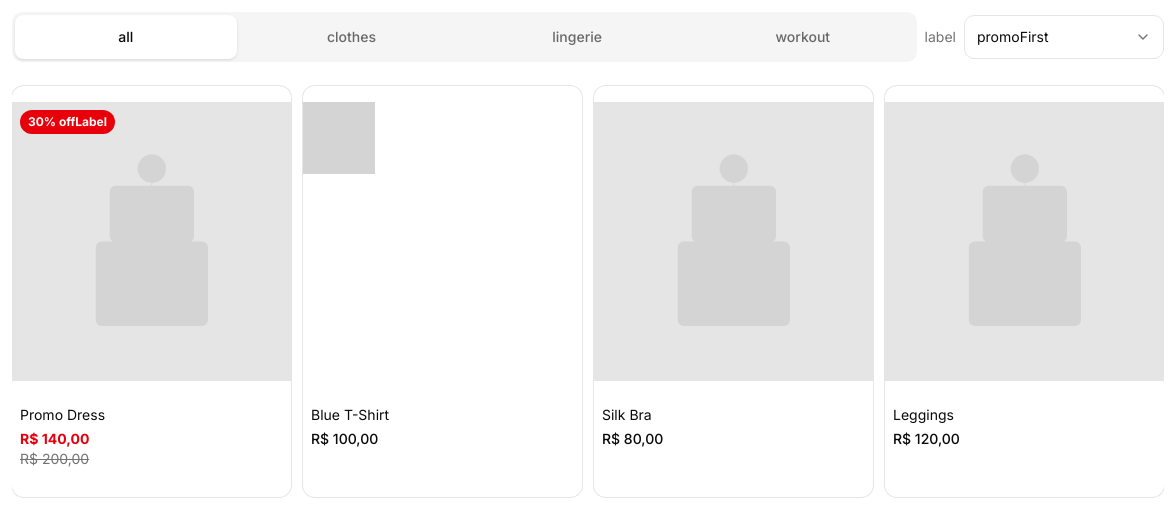
Scenario: CategoryFilter › shows only WORKOUT products after clicking the WORKOUT tab
Click the tab "workout" at (803, 37), box [692,15,914,59]
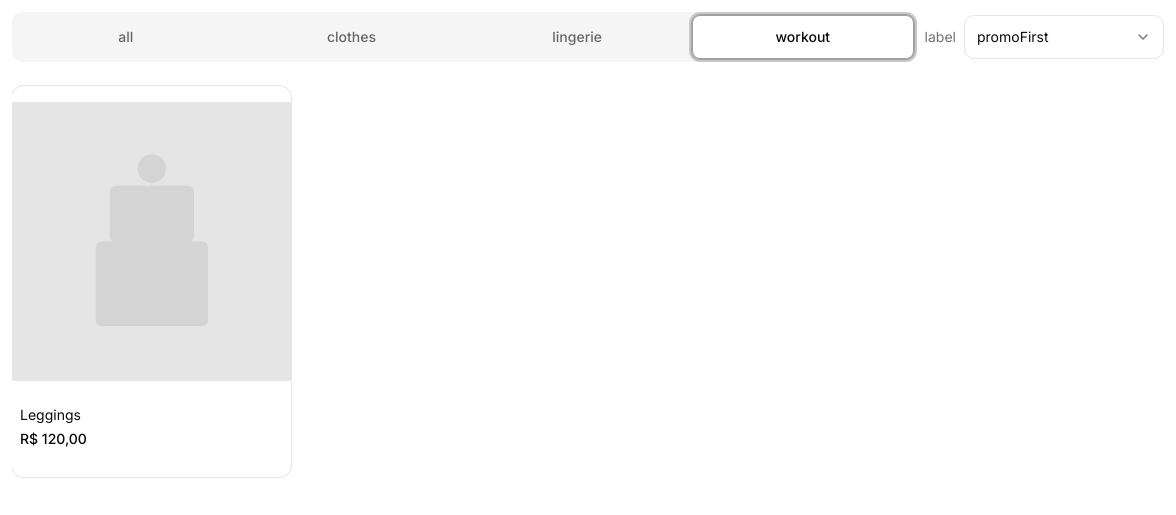
Expected: the text "Leggings" is shown, [20,406,81,423]
Now the link "Blue T-Shirt" is gone
Now the link "Silk Bra" is gone
